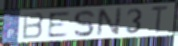3: (124, 7, 144, 35)
B: (21, 11, 46, 40)
E: (46, 10, 71, 39)
N: (95, 6, 123, 38)
S: (72, 9, 96, 38)
T: (150, 5, 170, 35)
